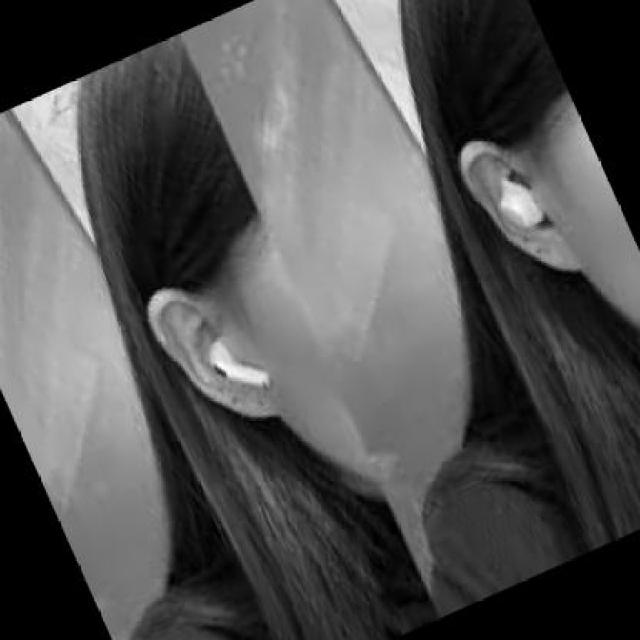earphone: (195, 328, 296, 416), (496, 164, 550, 277)
